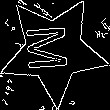M_E: (28, 26, 80, 76)
